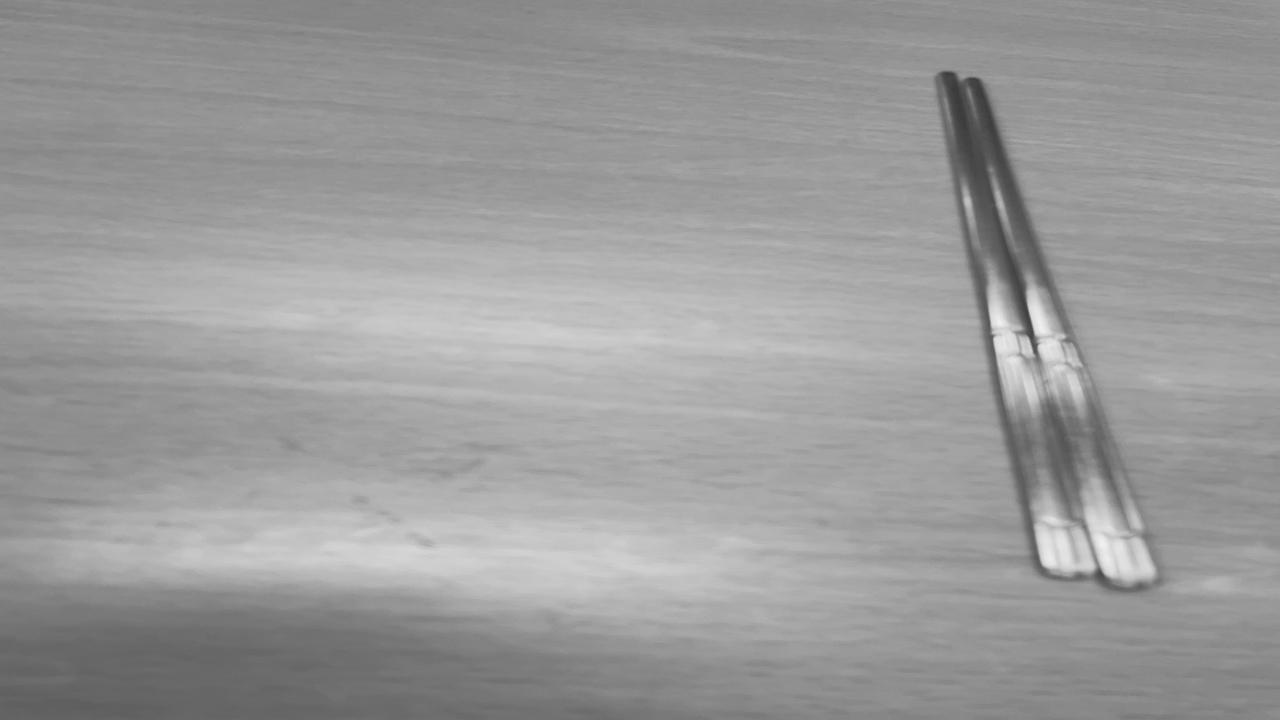chopstick: (940, 73, 1162, 585)
